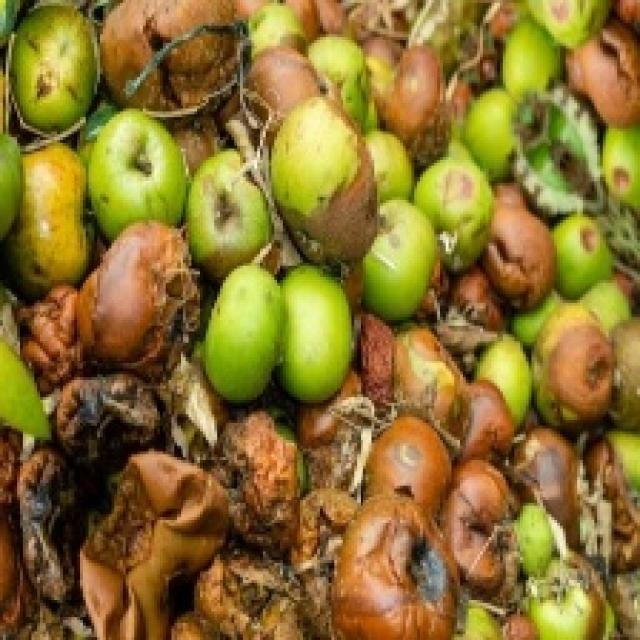rotten_apple: (73, 221, 198, 369), (334, 494, 457, 640), (272, 102, 378, 271), (102, 0, 240, 110), (535, 307, 616, 429), (454, 466, 521, 591), (569, 24, 640, 128), (365, 418, 450, 501), (494, 204, 552, 304), (528, 565, 602, 640), (436, 382, 509, 458), (392, 327, 456, 404), (248, 49, 337, 102)
